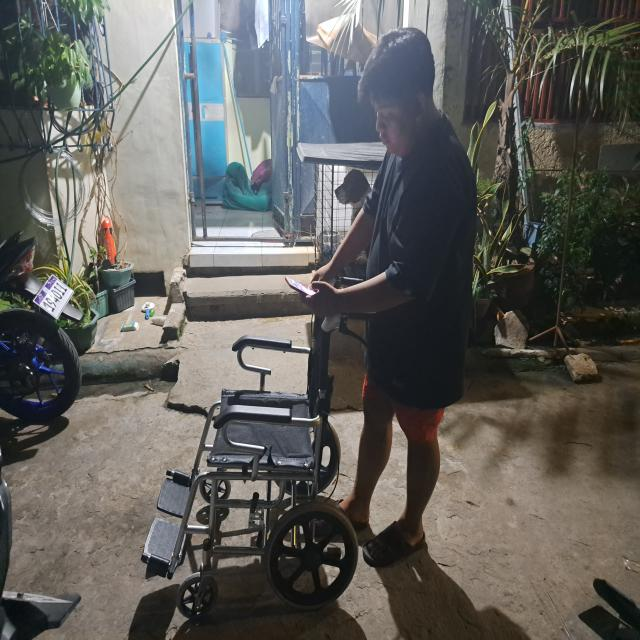wheelchairs: (141, 274, 379, 620)
